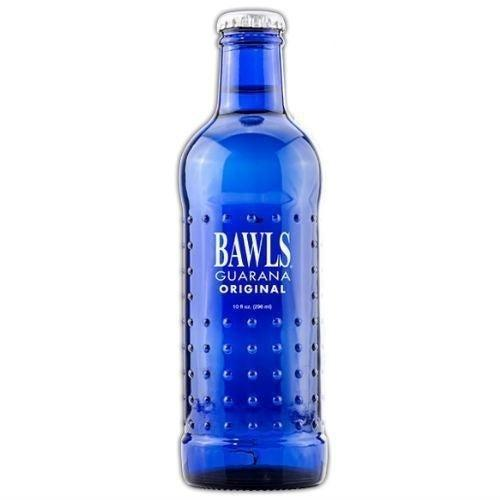bottle-glass: (169, 2, 329, 498)
